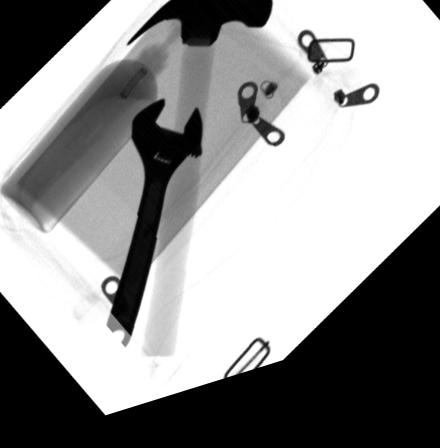Hammer: (124, 0, 272, 366)
Wrench: (106, 105, 201, 353)
